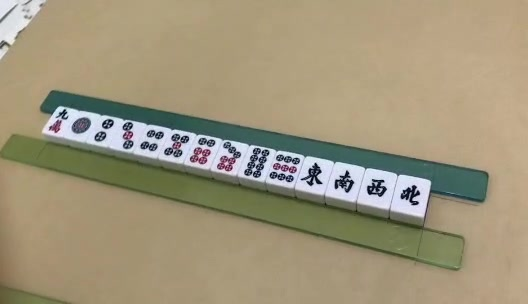1p: (72, 117, 91, 135)
1z: (300, 162, 323, 188)
2p: (95, 120, 114, 142)
2z: (334, 171, 354, 194)
3p: (122, 121, 135, 150)
3z: (367, 178, 388, 198)
4p: (141, 130, 164, 151)
4z: (400, 185, 422, 205)
5p: (166, 134, 189, 157)
6p: (190, 138, 215, 163)
7p: (217, 141, 240, 171)
8p: (244, 147, 271, 177)
9m: (47, 109, 69, 133)
9p: (270, 155, 300, 181)
